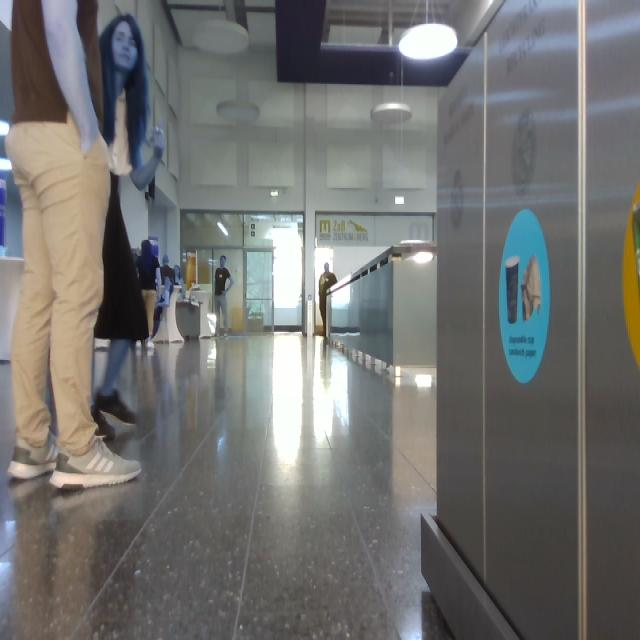door: (245, 216, 303, 329)
light bulb: (400, 24, 458, 61), (192, 20, 249, 54), (371, 102, 412, 126), (409, 250, 434, 265)
person: (7, 1, 140, 488), (93, 14, 166, 440), (137, 240, 160, 341), (154, 256, 175, 340), (215, 256, 234, 334), (319, 264, 338, 336), (176, 266, 185, 298)
staircase: (328, 242, 437, 386)
table: (167, 286, 184, 342)
tiled floor: (1, 337, 448, 640)
trash bin: (422, 1, 640, 640)
